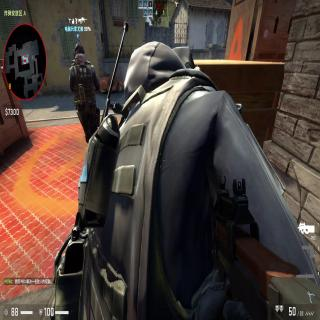CT-Body: (68, 38, 100, 126)
CT-Head: (74, 41, 86, 56)
